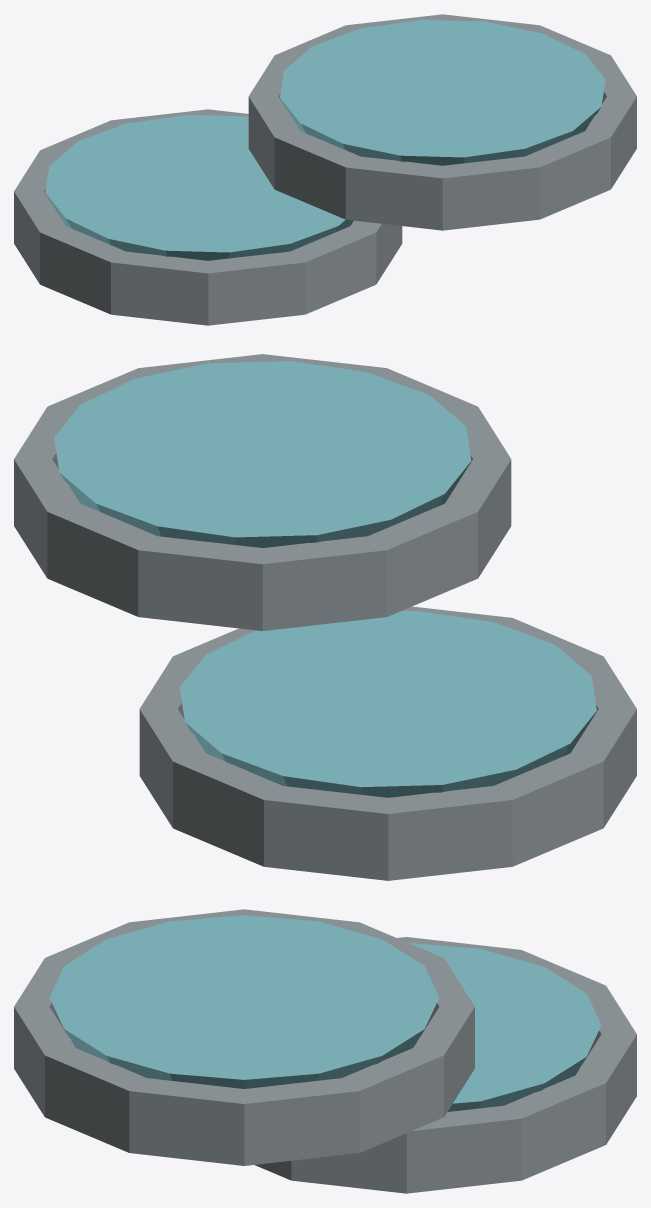
Rendered from lenses.glb.
3 renders of one model, top to bottom at view 1: azimuth 30°, elevation 25°; view 2: azimuth 150°, elevation 25°; view 3: azimuth 270°, elevation 25°, orthographic. The views are drawn at different scales.
Visible parts, largest first — view 1: lenses / Glass and lenses, lenses / Machined steel; view 2: lenses / Glass and lenses, lenses / Machined steel; view 3: lenses / Machined steel, lenses / Glass and lenses.
Part boxes in pixels (x1,y1,x2,y2): lenses / Glass and lenses: (45,19,605,260); lenses / Machined steel: (14,14,636,325); lenses / Glass and lenses: (54,361,596,797); lenses / Machined steel: (14,354,636,880); lenses / Machined steel: (14,909,636,1193); lenses / Glass and lenses: (49,915,601,1111).
Bounding box in the file's own units: 0.272 × 0.085 × 0.246.
